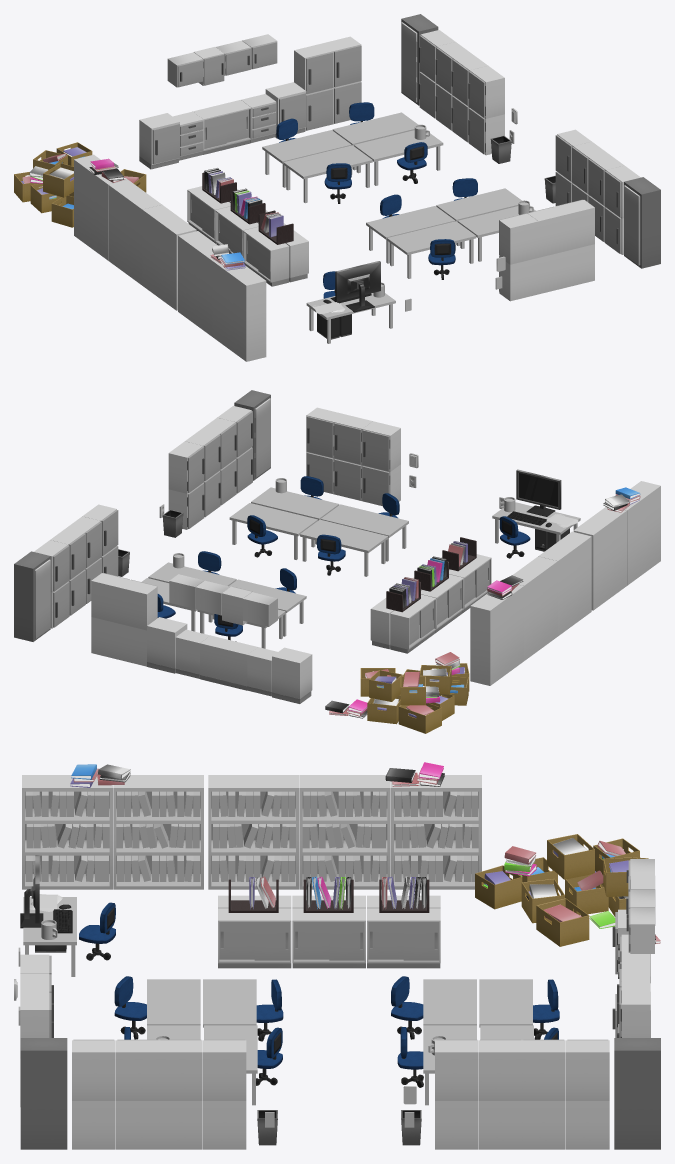
The model's file is Room05Set1.FBX.
3 views of the same model, one above another, from view 1: azimuth 30°, elevation 25°; view 2: azimuth 150°, elevation 25°; view 3: azimuth 270°, elevation 25° (orthographic). The views are drawn at different scales.
Parts seen in each view (by area): view 1: bookshelf032, bookshelf035, bookshelf034, bookshelf031, bookshelf033, chestbox057, Box475, Box467, chestbox068, Box473, Box465, Box008 (+58 smaller); view 2: bookshelf033, bookshelf031, bookshelf035, bookshelf034, bookshelf032, chestbox076, chestbox082, chestbox066, Box465, Box467, Box471, chestbox089 (+54 smaller); view 3: Books011, Books015, Books012, Books013, Books014, chestbox057, bookshelf035, bookshelf031, chestbox066, bookshelf034, bookshelf032, bookshelf033 (+59 smaller).
Boxes of the visible parts, x1=… form: bookshelf032: x1=212, y1=260, x2=266, y2=361; bookshelf035: x1=142, y1=205, x2=196, y2=310; bookshelf034: x1=108, y1=180, x2=161, y2=285; bookshelf031: x1=178, y1=231, x2=217, y2=336; bookshelf033: x1=74, y1=154, x2=127, y2=260; chestbox057: x1=624, y1=177, x2=660, y2=268; Box475: x1=283, y1=145, x2=372, y2=203; Box467: x1=387, y1=221, x2=476, y2=278; chestbox068: x1=499, y1=213, x2=538, y2=264; Box473: x1=262, y1=130, x2=351, y2=187; Box465: x1=366, y1=206, x2=455, y2=263; Box008: x1=335, y1=261, x2=380, y2=312; bookshelf033: x1=470, y1=585, x2=523, y2=685; bookshelf031: x1=573, y1=507, x2=626, y2=610; bookshelf035: x1=538, y1=531, x2=591, y2=636; bookshelf034: x1=512, y1=556, x2=557, y2=660; bookshelf032: x1=625, y1=481, x2=660, y2=585; chestbox076: x1=200, y1=635, x2=257, y2=690; chestbox082: x1=272, y1=647, x2=312, y2=703; chestbox066: x1=14, y1=551, x2=50, y2=641; Box465: x1=300, y1=519, x2=388, y2=576; Box467: x1=320, y1=504, x2=408, y2=561; Box471: x1=229, y1=503, x2=317, y2=559; chestbox089: x1=119, y1=580, x2=157, y2=630; Books011: x1=116, y1=791, x2=200, y2=881; Books015: x1=212, y1=791, x2=295, y2=881; Books012: x1=25, y1=791, x2=109, y2=881; Books013: x1=394, y1=791, x2=478, y2=881; Books014: x1=302, y1=791, x2=386, y2=881; chestbox057: x1=20, y1=1038, x2=67, y2=1149; bookshelf035: x1=208, y1=775, x2=299, y2=889; bookshelf031: x1=113, y1=775, x2=203, y2=889; chestbox066: x1=614, y1=1038, x2=660, y2=1149; bookshelf034: x1=299, y1=775, x2=390, y2=889; bookshelf032: x1=22, y1=775, x2=112, y2=889; bookshelf033: x1=391, y1=775, x2=481, y2=889.
Size of the model in its own units: 119 by 25.72 by 120.
